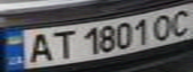0: (115, 20, 136, 50)
1: (130, 16, 154, 46), (78, 25, 100, 55)
8: (97, 21, 118, 53)
A: (21, 30, 57, 64)
C: (166, 6, 193, 37)
O: (148, 11, 178, 40)
T: (45, 28, 78, 61)
